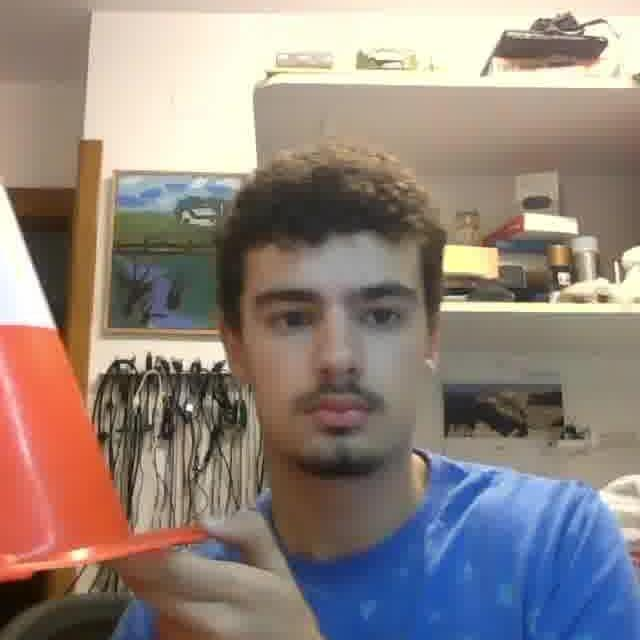NO-Hardhat: (231, 146, 430, 269)
NO-Mask: (255, 384, 415, 471)
NO-Safety Vest: (203, 467, 531, 640)
Person: (0, 145, 640, 640)
Safety Cone: (0, 56, 214, 626)
